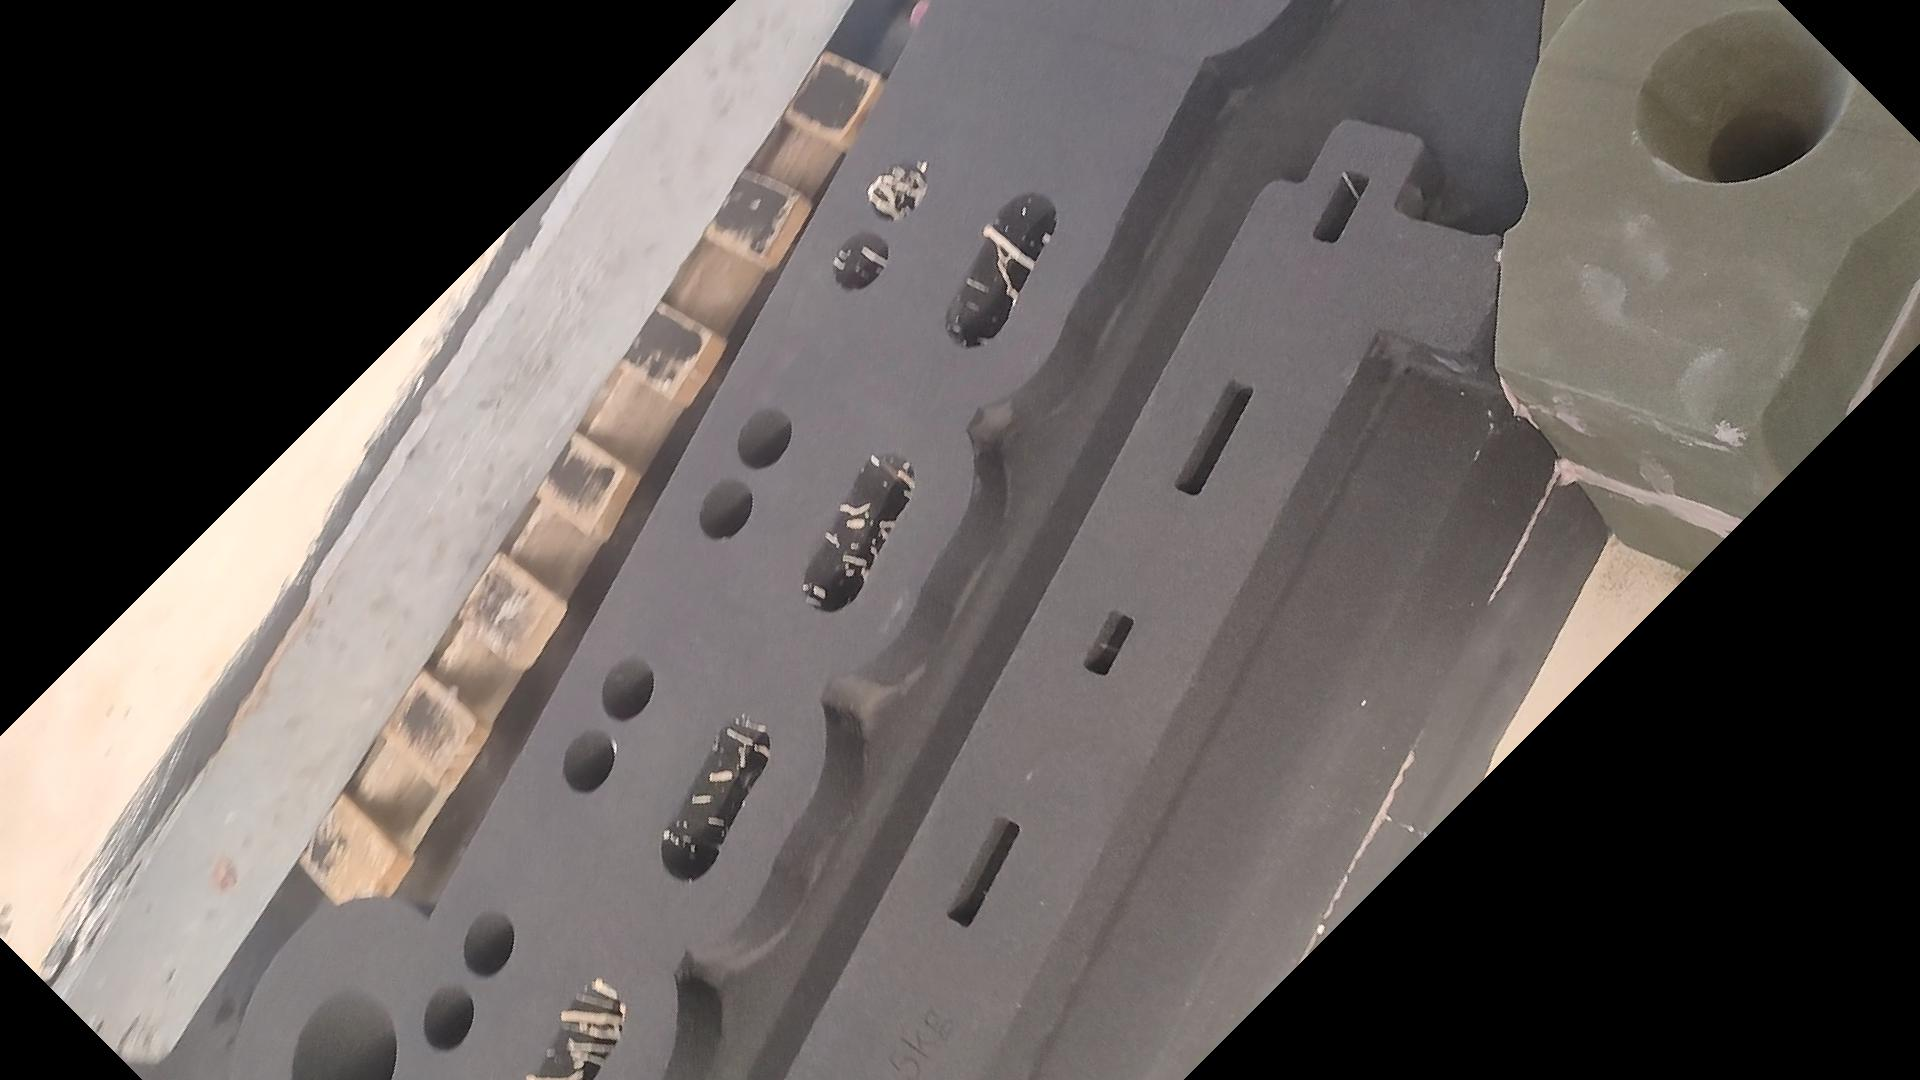pouring hole: (1636, 11, 1853, 187), (293, 988, 397, 1080)
